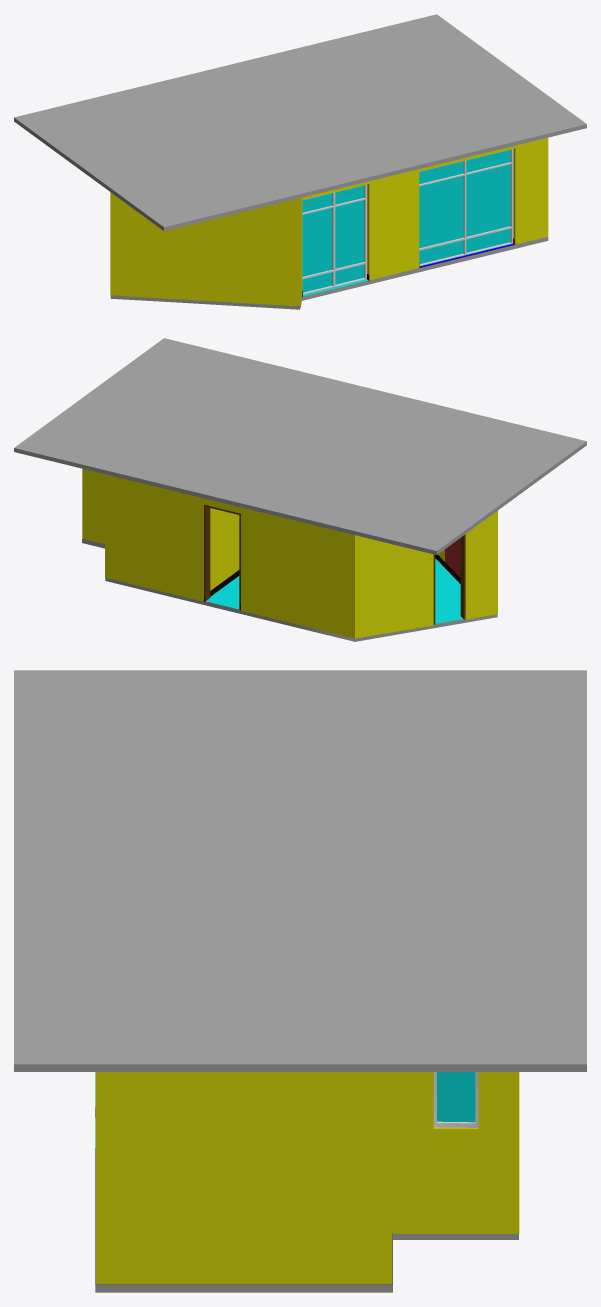
File: Wing_B_Flat_No_04_Type03MtID.fbx
The picture shows the model from 3 angles, top to bottom: view 1: azimuth 30°, elevation 25°; view 2: azimuth 150°, elevation 25°; view 3: azimuth 270°, elevation 25°; orthographic projection. The views are drawn at different scales.
Visible parts, largest first — view 1: Roof1, Flat_04_wall_01, balacony_door:Door_Glass1, Door_Glass1, Flat_04_Floor_01, balacony_door:Flat_No_03_Type03:Door_frame_03, Door_frame_03; view 2: Roof1, Flat_04_wall_01, Flat_04_Floor_01, Flat_No_01_Type02:Flat_No_01_Type01:Flat_No_03_celling__Door, pCube4; view 3: Roof1, Flat_04_wall_01, Flat_04_Floor_01, BathRoom_Window:Glass3.
Boxes of the visible parts, x1,y1,x2,y2 form: Roof1: (14, 14, 586, 231); Flat_04_wall_01: (110, 137, 548, 306); balacony_door:Door_Glass1: (419, 149, 510, 263); Door_Glass1: (302, 185, 364, 292); Flat_04_Floor_01: (110, 237, 548, 309); balacony_door:Flat_No_03_Type03:Door_frame_03: (419, 148, 513, 266); Door_frame_03: (302, 184, 367, 294); Roof1: (14, 338, 586, 554); Flat_04_wall_01: (82, 468, 497, 638); Flat_04_Floor_01: (82, 539, 497, 641); Flat_No_01_Type02:Flat_No_01_Type01:Flat_No_03_celling__Door: (204, 504, 240, 609); pCube4: (433, 534, 465, 624); Roof1: (14, 670, 586, 1071); Flat_04_wall_01: (95, 1072, 519, 1284); Flat_04_Floor_01: (95, 1072, 518, 1292); BathRoom_Window:Glass3: (437, 1072, 475, 1122).
Bounding box in the file's own units: 1092 × 316 × 671.
